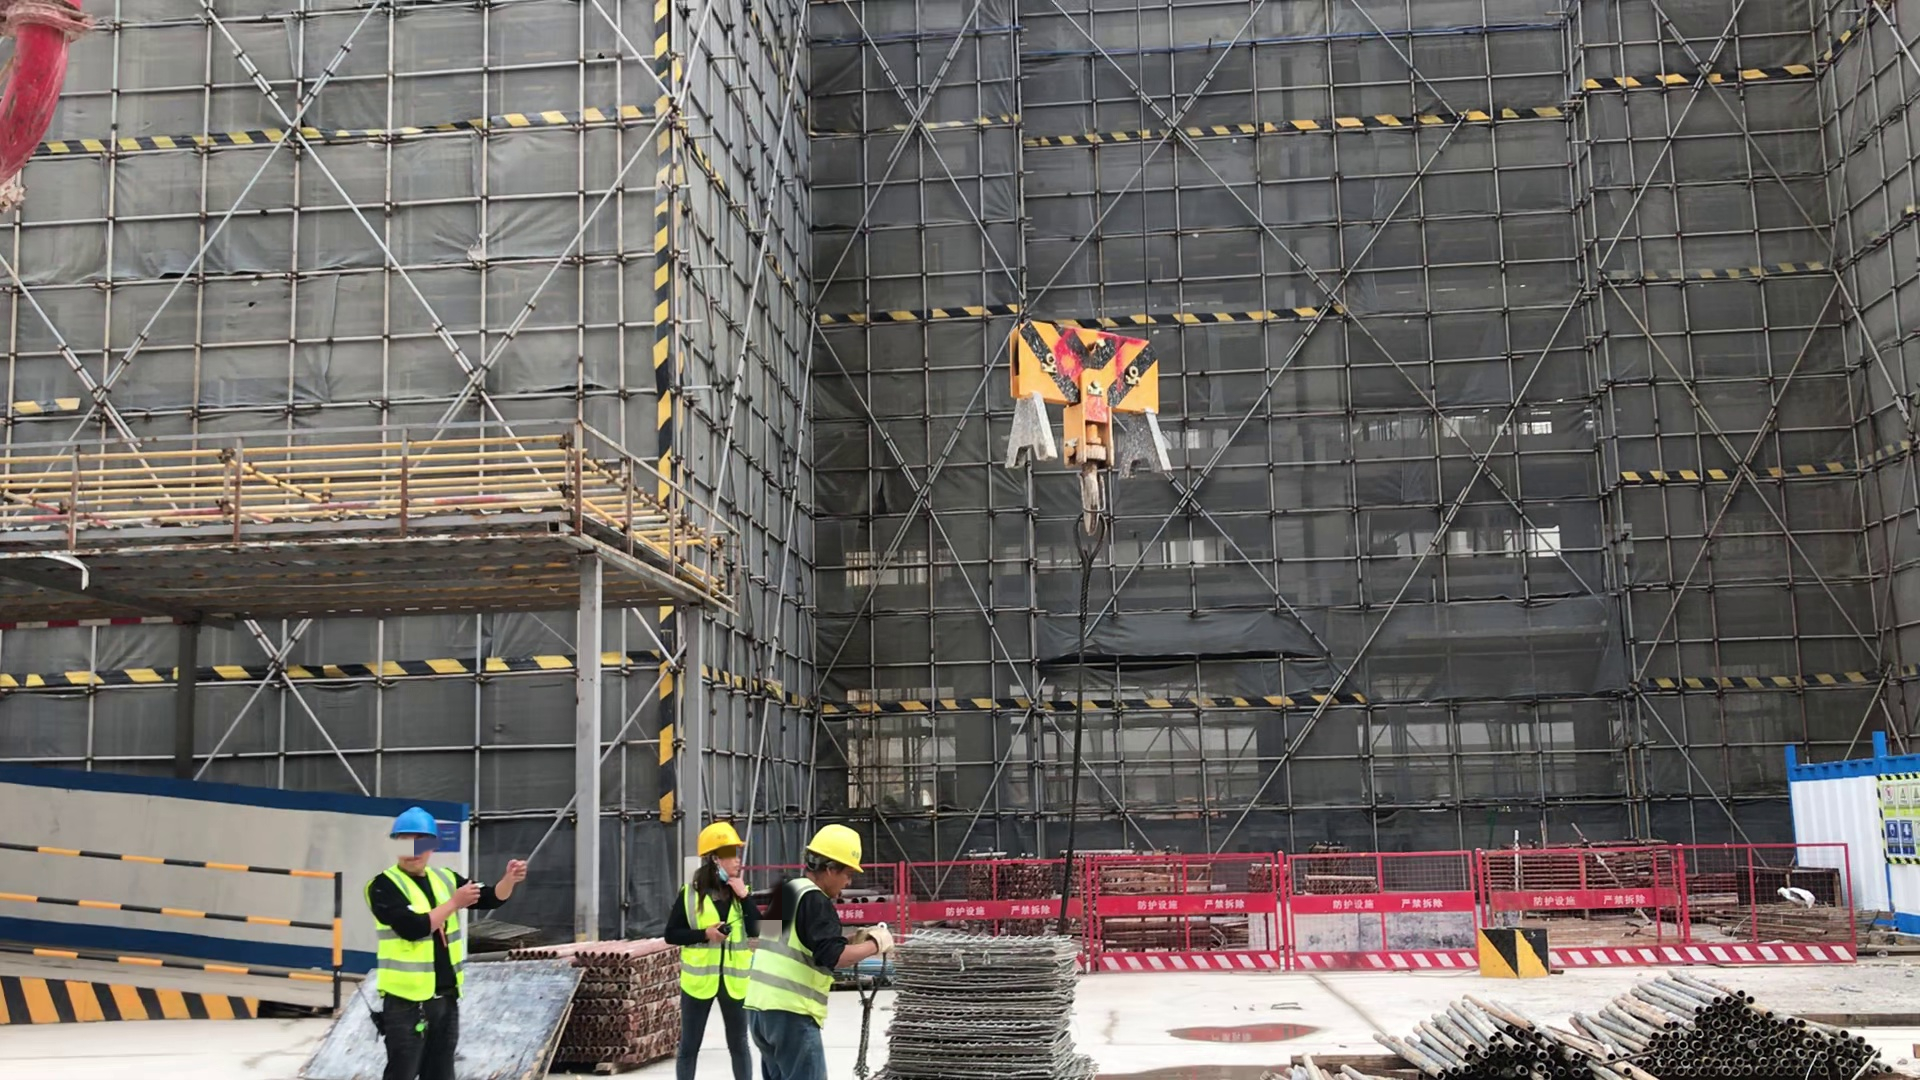fence: (10, 832, 356, 990), (1081, 842, 1477, 976), (1543, 843, 1854, 969), (870, 852, 1070, 924)
helmet: (800, 825, 866, 876), (387, 807, 439, 842), (694, 822, 746, 854)
hook: (996, 311, 1182, 541)
person: (741, 824, 897, 1080), (660, 820, 750, 1080)
scaffold: (1595, 971, 1877, 1080), (1363, 993, 1594, 1080), (592, 935, 667, 1080)
slogan: (1878, 775, 1920, 857)
vest: (370, 804, 528, 1079), (745, 876, 832, 1033), (373, 867, 468, 1004), (678, 881, 751, 1001)
